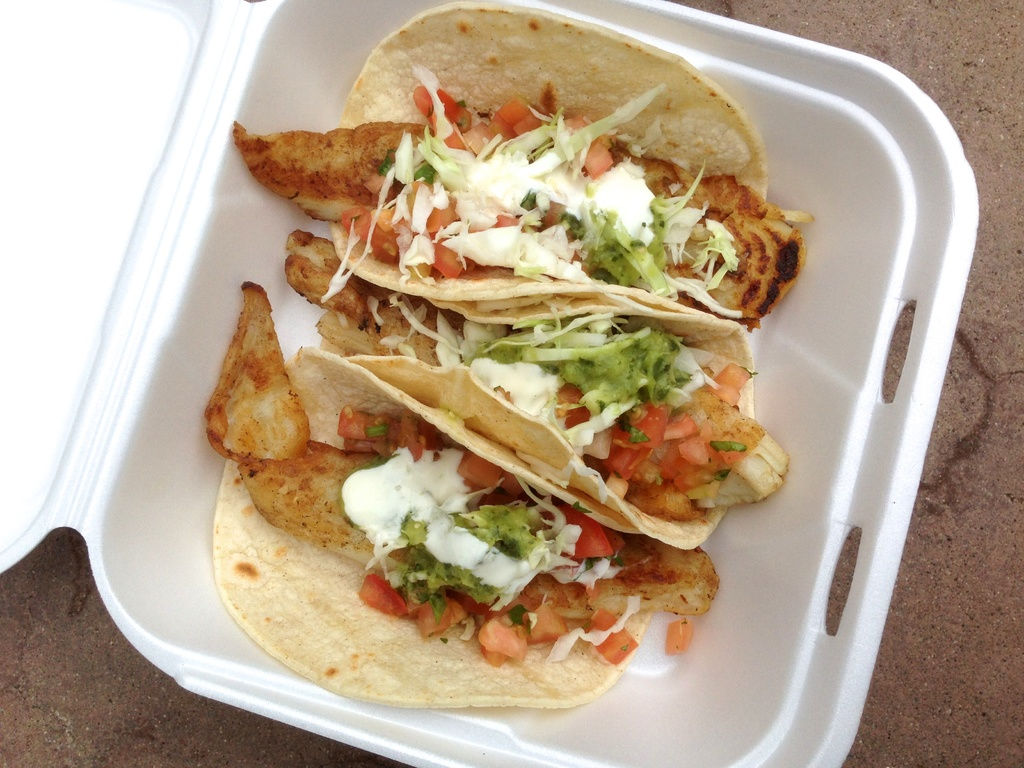taco: (196, 347, 719, 715), (232, 0, 813, 320), (314, 276, 790, 581)
